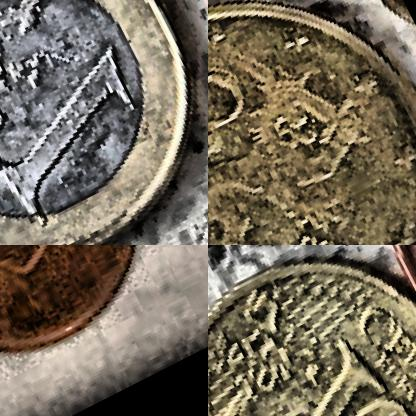coin: (0, 0, 207, 244), (208, 0, 415, 244), (208, 245, 415, 415), (0, 245, 186, 402)
